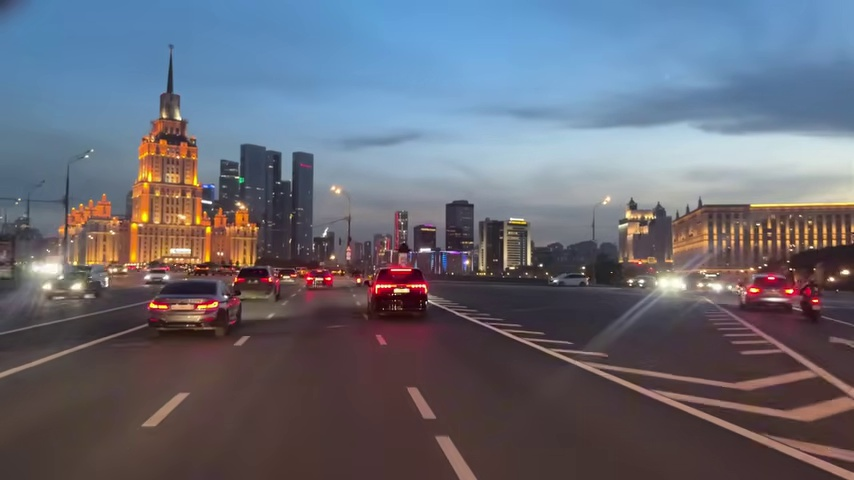acesa: (329, 184, 345, 199), (600, 193, 612, 206)
apagada: (80, 147, 94, 162)
